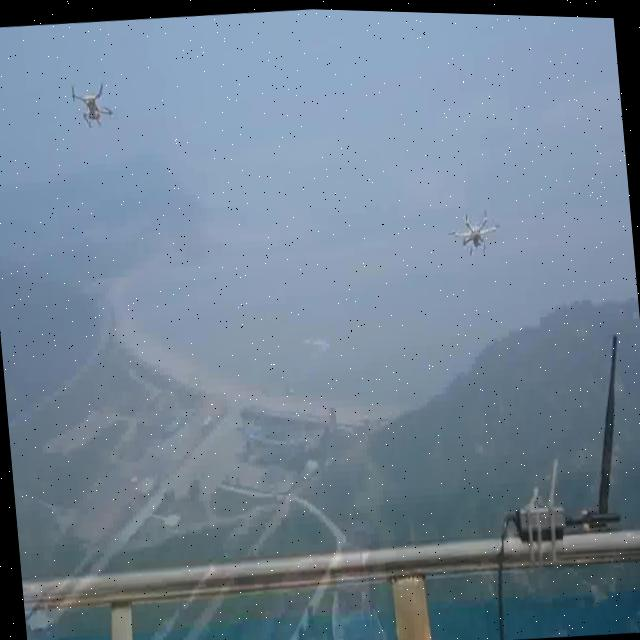drone: (31, 31, 142, 181)
